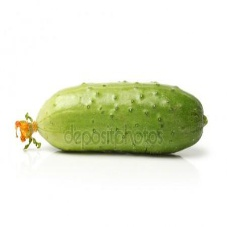cucumber: (35, 81, 205, 158)
